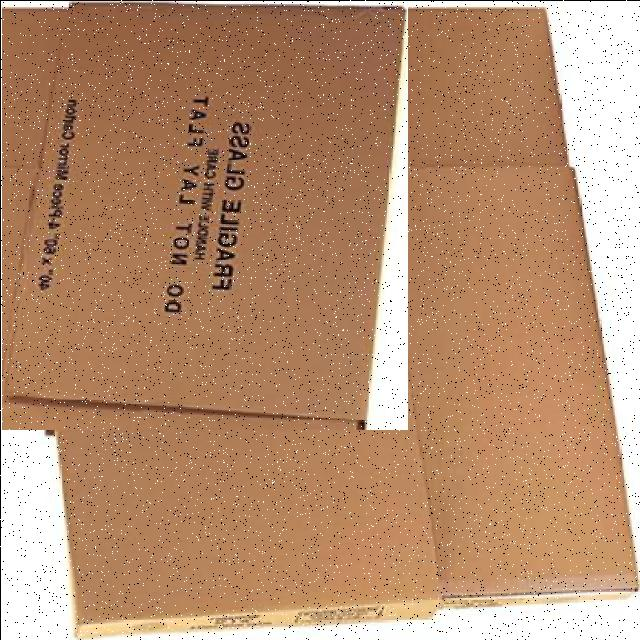normal: (1, 0, 408, 429), (43, 394, 446, 638)
